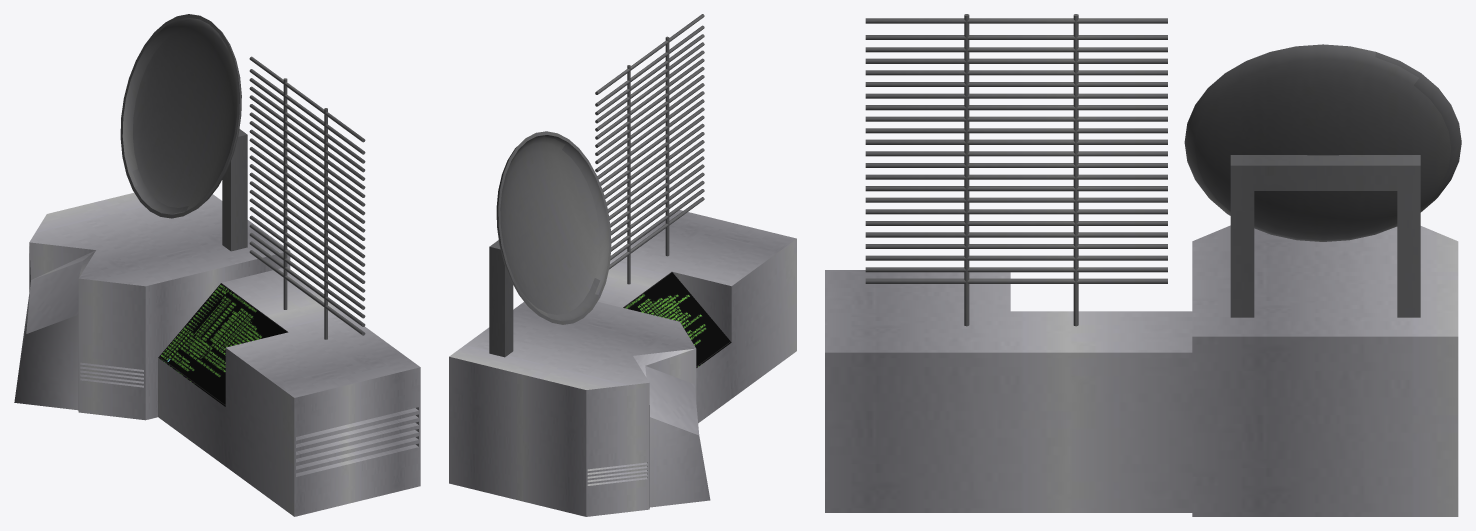
File: roznosci.FBX
The picture shows the model from 3 angles, left to right: view 1: azimuth 30°, elevation 25°; view 2: azimuth 150°, elevation 25°; view 3: azimuth 270°, elevation 25°; orthographic projection. The views are drawn at different scales.
Visible parts, largest first — view 1: Cylinder025; view 2: Cylinder025; view 3: Cylinder025.
Boxes of the visible parts, left/top/right/bottom form: Cylinder025: left=14, top=14, right=420, bottom=516; Cylinder025: left=449, top=14, right=796, bottom=516; Cylinder025: left=825, top=14, right=1461, bottom=516.
Size of the model in its own units: 73.53 by 108 by 133.
3 materials, 3 textured.
